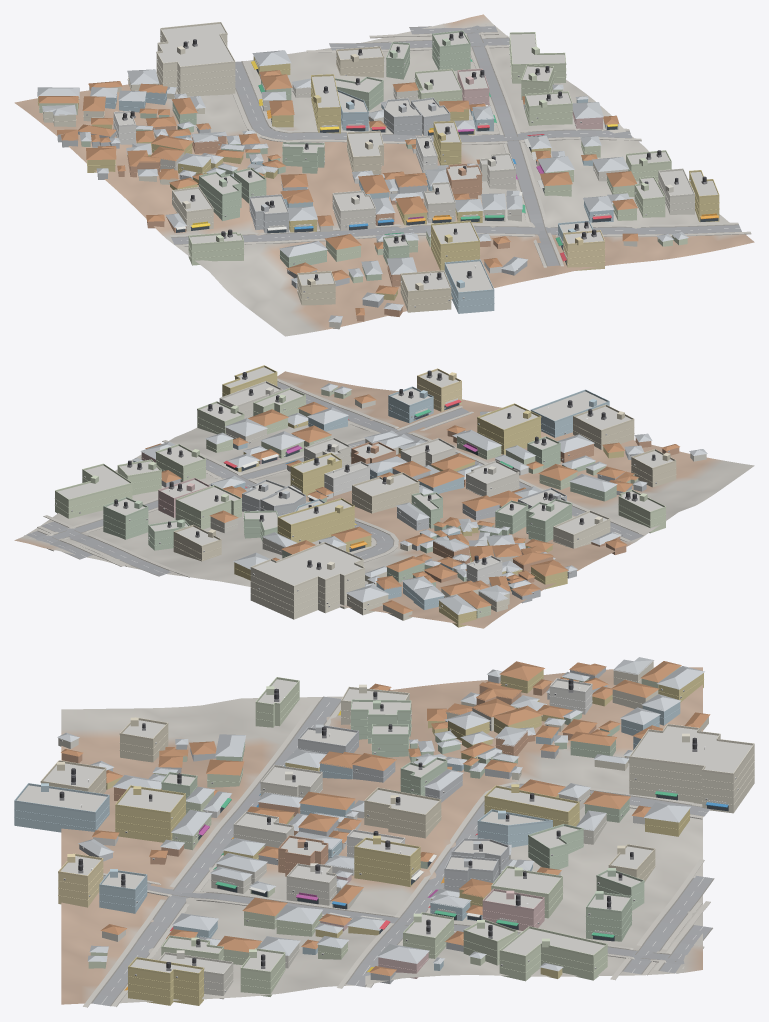
The picture shows the model from 3 angles, top to bottom: view 1: azimuth 30°, elevation 25°; view 2: azimuth 150°, elevation 25°; view 3: azimuth 270°, elevation 25°; orthographic projection. The views are drawn at different scales.
Visible parts, largest first — view 1: Buildings-col, Terrain-col, Details, Roads-col, Sidewalks-col; view 2: Buildings-col, Terrain-col, Details, Roads-col, Sidewalks-col; view 3: Buildings-col, Terrain-col, Details, Roads-col, Sidewalks-col.
Boxes of the visible parts, left/top/right/bottom form: Buildings-col: left=37, top=23, right=719, bottom=329; Terrain-col: left=14, top=14, right=754, bottom=336; Details: left=37, top=22, right=719, bottom=323; Roads-col: left=171, top=25, right=741, bottom=266; Sidewalks-col: left=170, top=23, right=751, bottom=267; Buildings-col: left=55, top=367, right=707, bottom=627; Terrain-col: left=14, top=371, right=754, bottom=628; Details: left=54, top=365, right=676, bottom=620; Roads-col: left=24, top=381, right=643, bottom=576; Sidewalks-col: left=28, top=378, right=641, bottom=577; Buildings-col: left=14, top=657, right=754, bottom=1005; Terrain-col: left=61, top=667, right=702, bottom=1004; Details: left=14, top=667, right=754, bottom=997; Roads-col: left=91, top=696, right=714, bottom=1006; Sidewalks-col: left=83, top=700, right=710, bottom=1007.
Size of the model in its own units: 264 by 40.64 by 296.
